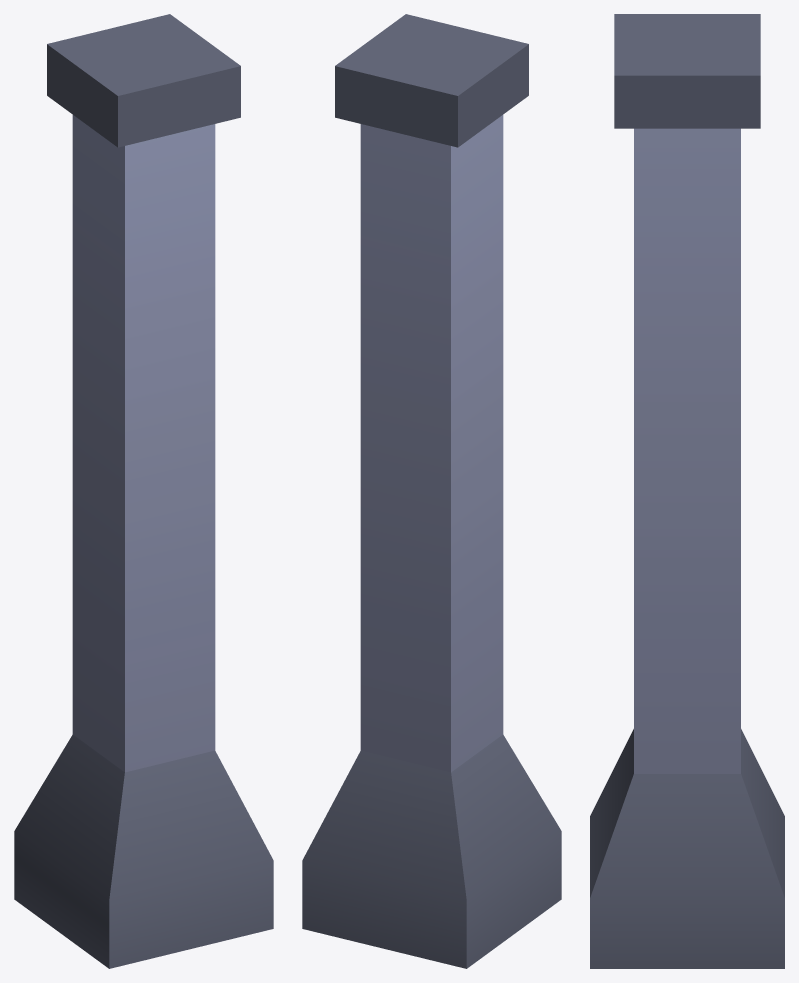
3 renders of one model, left to right at view 1: azimuth 30°, elevation 25°; view 2: azimuth 150°, elevation 25°; view 3: azimuth 270°, elevation 25°, orthographic. The views are drawn at different scales.
Parts seen in each view (by area): view 1: bridge-pillar; view 2: bridge-pillar; view 3: bridge-pillar.
Part boxes in pixels (bbox=[...]): bridge-pillar: bbox=[14, 14, 273, 968]; bridge-pillar: bbox=[302, 14, 561, 968]; bridge-pillar: bbox=[590, 14, 784, 968].
Size of the model in its own units: 1.07 by 5.34 by 1.07.
1 material, 1 textured.
